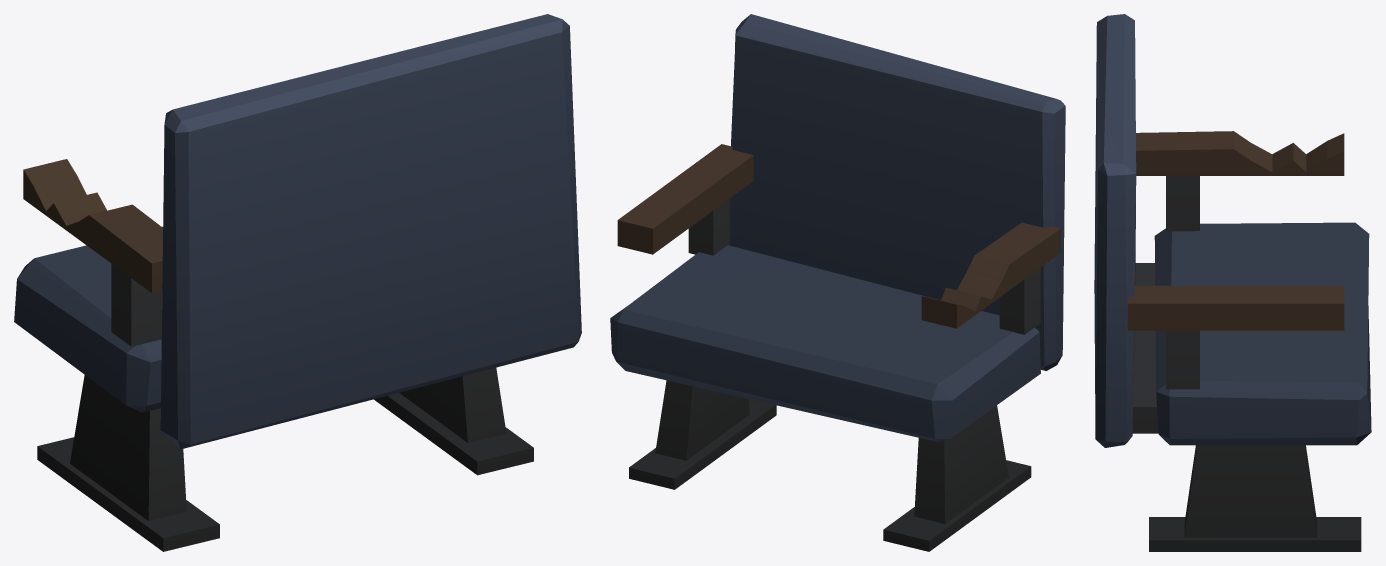
The model's file is coach_seat.glb.
The picture shows the model from 3 angles, left to right: view 1: azimuth 30°, elevation 25°; view 2: azimuth 150°, elevation 25°; view 3: azimuth 270°, elevation 25°; orthographic projection. The views are drawn at different scales.
Parts seen in each view (by area): view 1: CoachSeat; view 2: CoachSeat; view 3: CoachSeat.
Part boxes in pixels (box(x1,y1,x2,y2)): CoachSeat: box(14, 14, 581, 551); CoachSeat: box(610, 14, 1065, 551); CoachSeat: box(1094, 14, 1371, 551).
Size of the model in its own units: 0.9616 by 1.01 by 0.6516.
